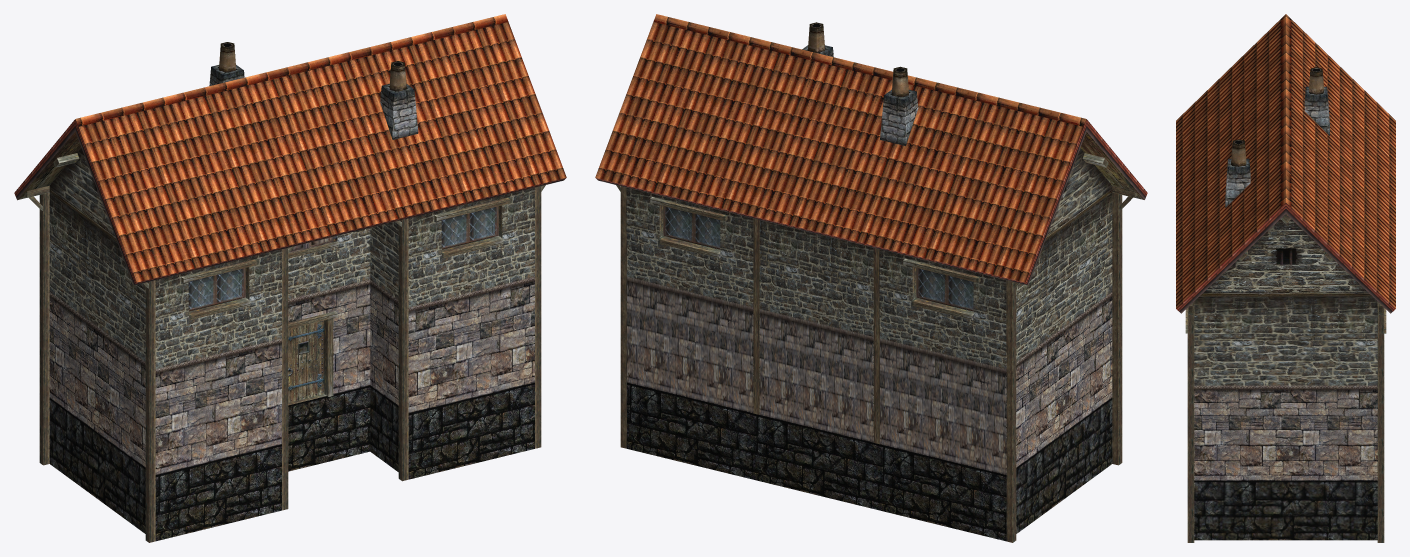
Rendered from S_bld21b.glb.
3 renders of one model, left to right at view 1: azimuth 30°, elevation 25°; view 2: azimuth 150°, elevation 25°; view 3: azimuth 270°, elevation 25°, orthographic. The views are drawn at different scales.
Visible parts, largest first — view 1: S_bld21b; view 2: S_bld21b; view 3: S_bld21b.
Boxes of the visible parts, <box> form: S_bld21b: <box>14,14,566,542</box>; S_bld21b: <box>595,14,1147,542</box>; S_bld21b: <box>1176,14,1395,542</box>.
Bounding box in the file's own units: 13.6 × 12.35 × 6.7.
12 materials, 12 textured.
